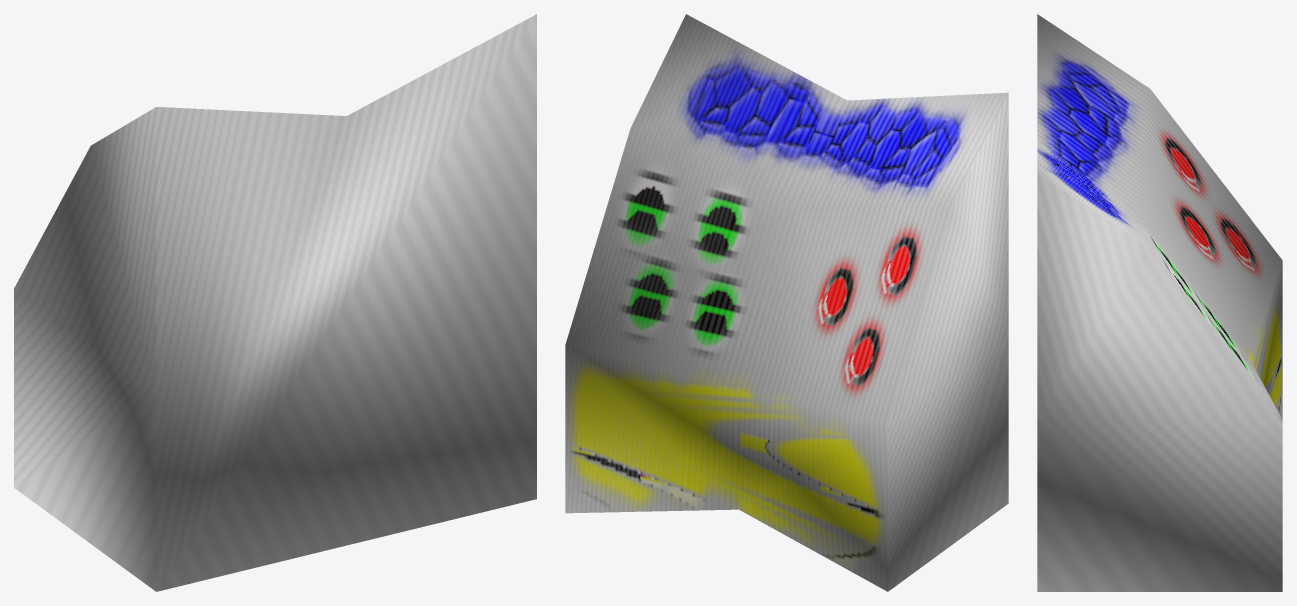
Rendered from alien_console.obj.
3 renders of one model, left to right at view 1: azimuth 30°, elevation 25°; view 2: azimuth 150°, elevation 25°; view 3: azimuth 270°, elevation 25°, orthographic. The views are drawn at different scales.
Parts seen in each view (by area): view 1: cube1; view 2: cube1; view 3: cube1.
Boxes of the visible parts, x1=… form: cube1: x1=14, y1=14, x2=536, y2=591; cube1: x1=565, y1=14, x2=1008, y2=591; cube1: x1=1037, y1=14, x2=1282, y2=591.
Size of the model in its own units: 2 by 2.44 by 1.3.
1 material, 1 textured.
